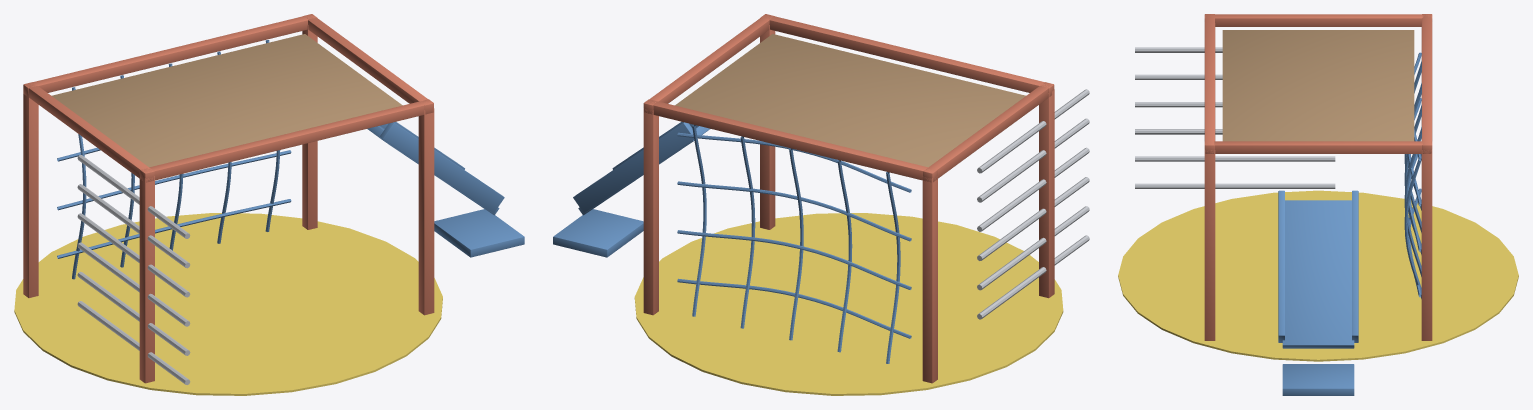
The model's file is th42_klettergeruest.glb.
The picture shows the model from 3 angles, left to right: view 1: azimuth 30°, elevation 25°; view 2: azimuth 150°, elevation 25°; view 3: azimuth 270°, elevation 25°; orthographic projection. The views are drawn at different scales.
Parts seen in each view (by area): view 1: Cylinder, Cube.008, Cube.004, Cube.005, Cube.002, Cube.001, Cube, Cube.012, Cube.010, Cube.006, Cube.007, Cube.003 (+9 smaller); view 2: Cylinder, Cube.008, Cube.005, Cube.004, Cube.001, Cube.003, Cube, Cube.012, Cube.011, Cube.006, Cube.007, Cube.002 (+15 smaller); view 3: Cylinder, Cube.008, Cube.009, Cube.006, Cube.007, Cube.012, Cube.003, Cube.002, Cube.004, Cube.005, Cylinder.002, Cylinder.001 (+8 smaller).
Part boxes in pixels (x1,y1,x2,y2): Cylinder: (14,213,442,395); Cube.008: (51,34,402,167); Cube.004: (139,99,433,181); Cube.005: (23,14,317,96); Cube.002: (418,108,434,315); Cube.001: (23,93,38,297); Cube: (139,175,154,383); Cube.012: (434,209,524,257); Cube.010: (380,122,504,213); Cube.006: (24,82,154,182); Cube.007: (303,14,433,114); Cube.003: (302,25,317,229); Cylinder: (634,213,1063,395); Cube.008: (675,34,1025,167); Cube.005: (643,99,937,182); Cube.004: (760,14,1054,96); Cube.001: (922,176,937,383); Cube.003: (643,108,658,315); Cube: (1039,89,1054,298); Cube.012: (553,209,643,257); Cube.011: (573,122,693,213); Cube.006: (923,82,1053,182); Cube.007: (644,14,774,114); Cube.002: (760,25,775,229); Cylinder: (1118,190,1518,361); Cube.008: (1222,30,1414,141); Cube.009: (1282,200,1354,348); Cube.006: (1204,14,1432,26); Cube.007: (1204,141,1432,153); Cube.012: (1282,364,1354,395); Cube.003: (1421,150,1432,340); Cube.002: (1204,150,1215,340); Cube.004: (1205,14,1214,153); Cube.005: (1422,14,1431,153); Cylinder.002: (1135,156,1335,161); Cylinder.001: (1135,183,1335,188).
Bounding box in the file's own units: 5.97 × 2.61 × 4.8.
